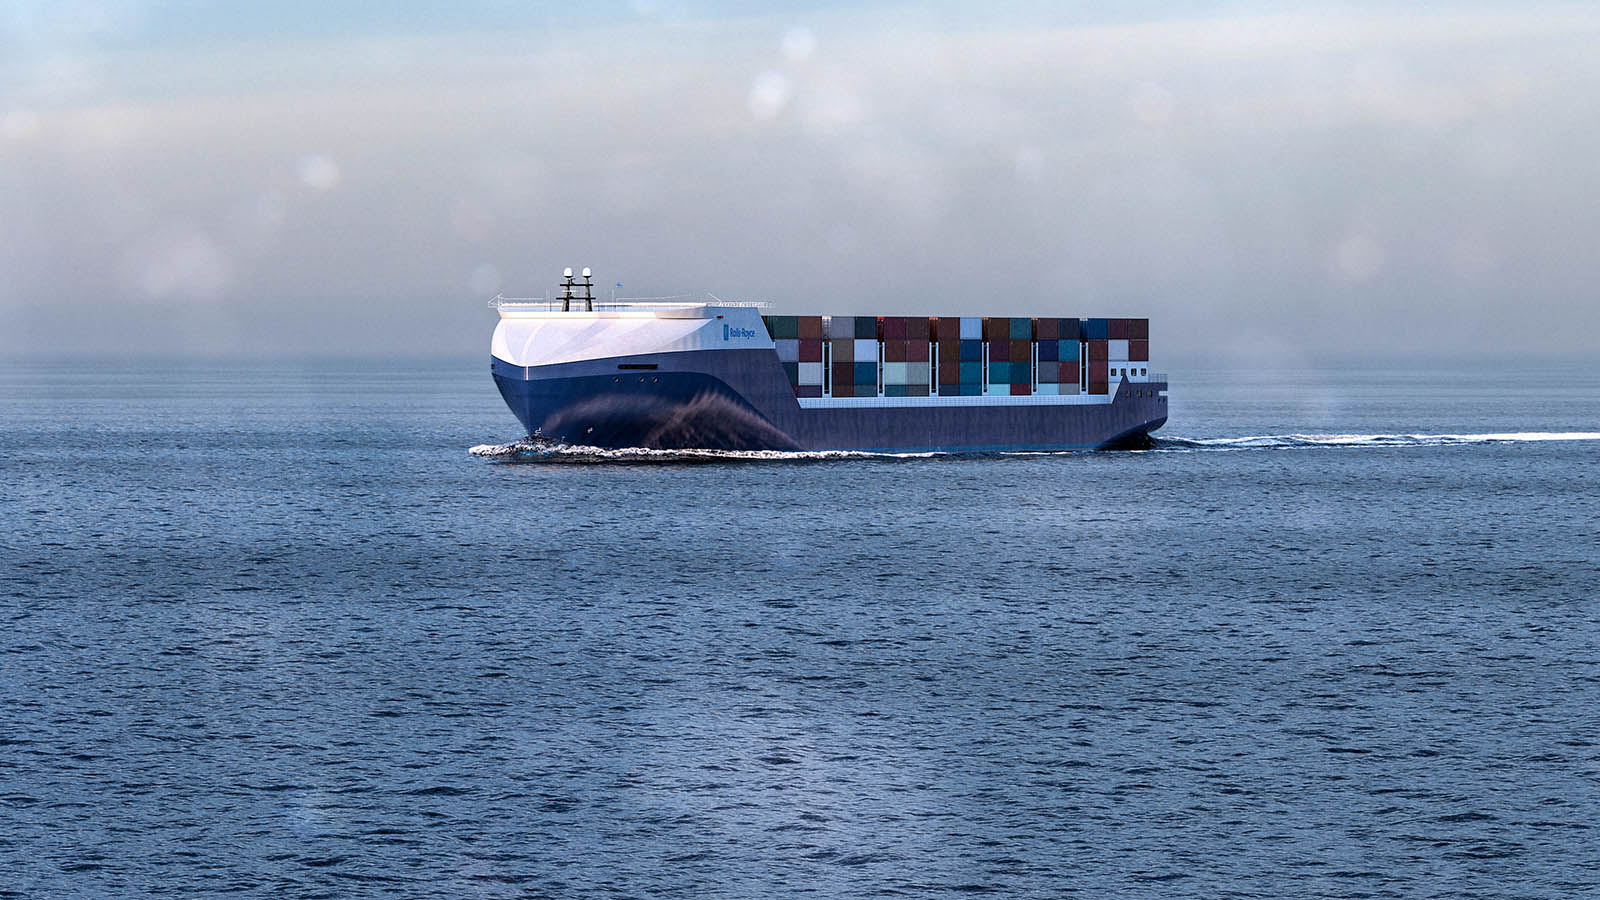ship: (490, 262, 1254, 534)
